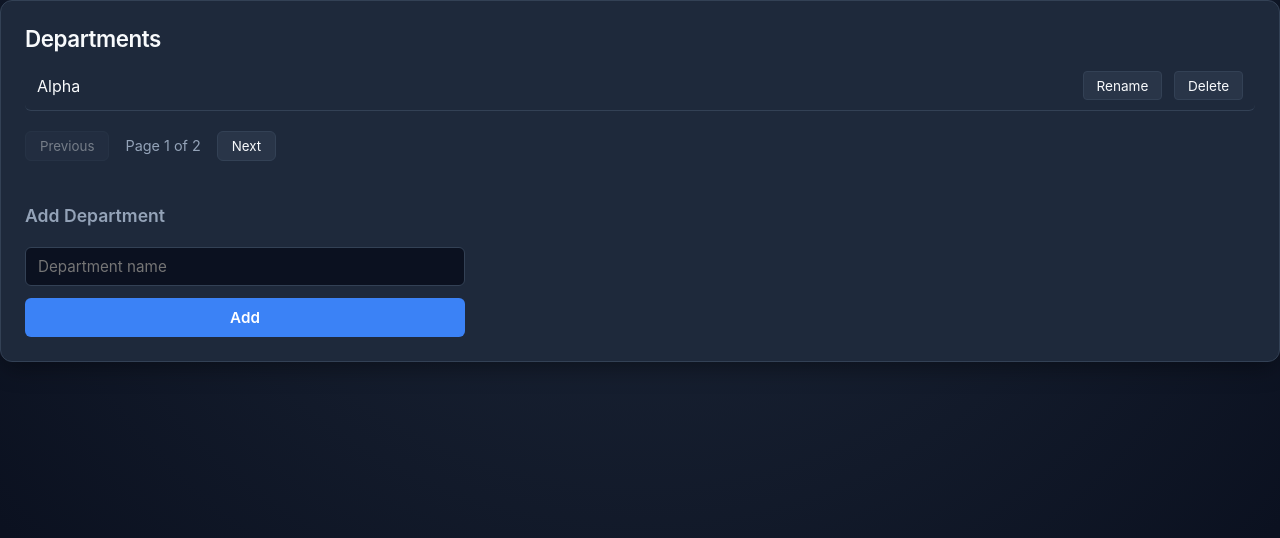
DepartmentsPanel › Next button requests page 2 from the API
Check: the text "Alpha" is shown, box [37,76,80,96]
Click the button "Next".
click(246, 146)  # box [217,131,276,161]
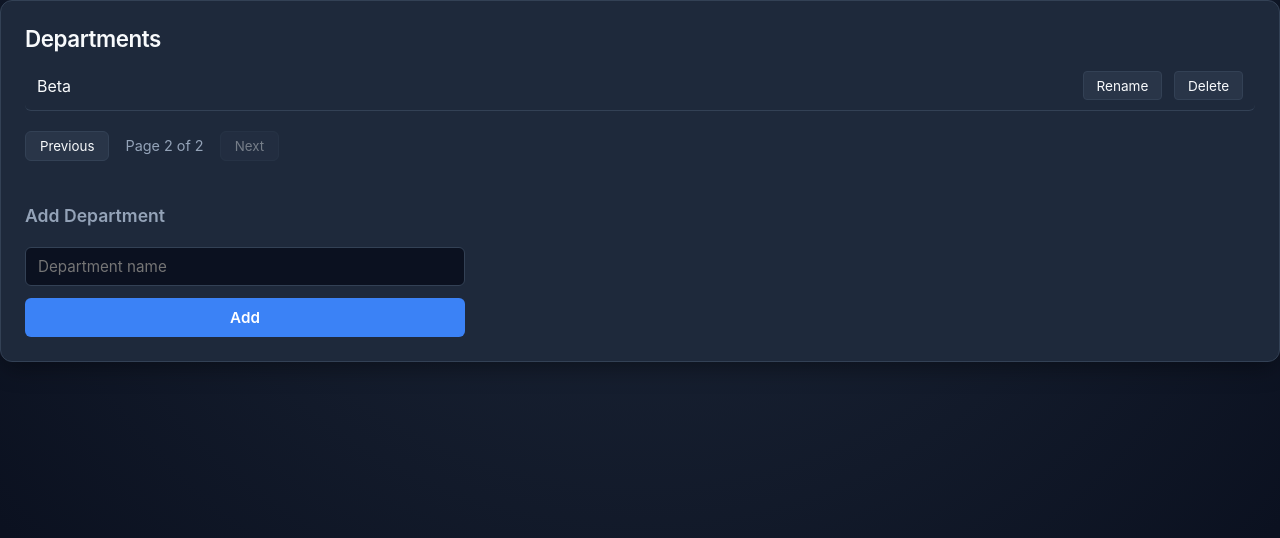
Check: the text "Beta" is shown, box [37,76,71,96]
